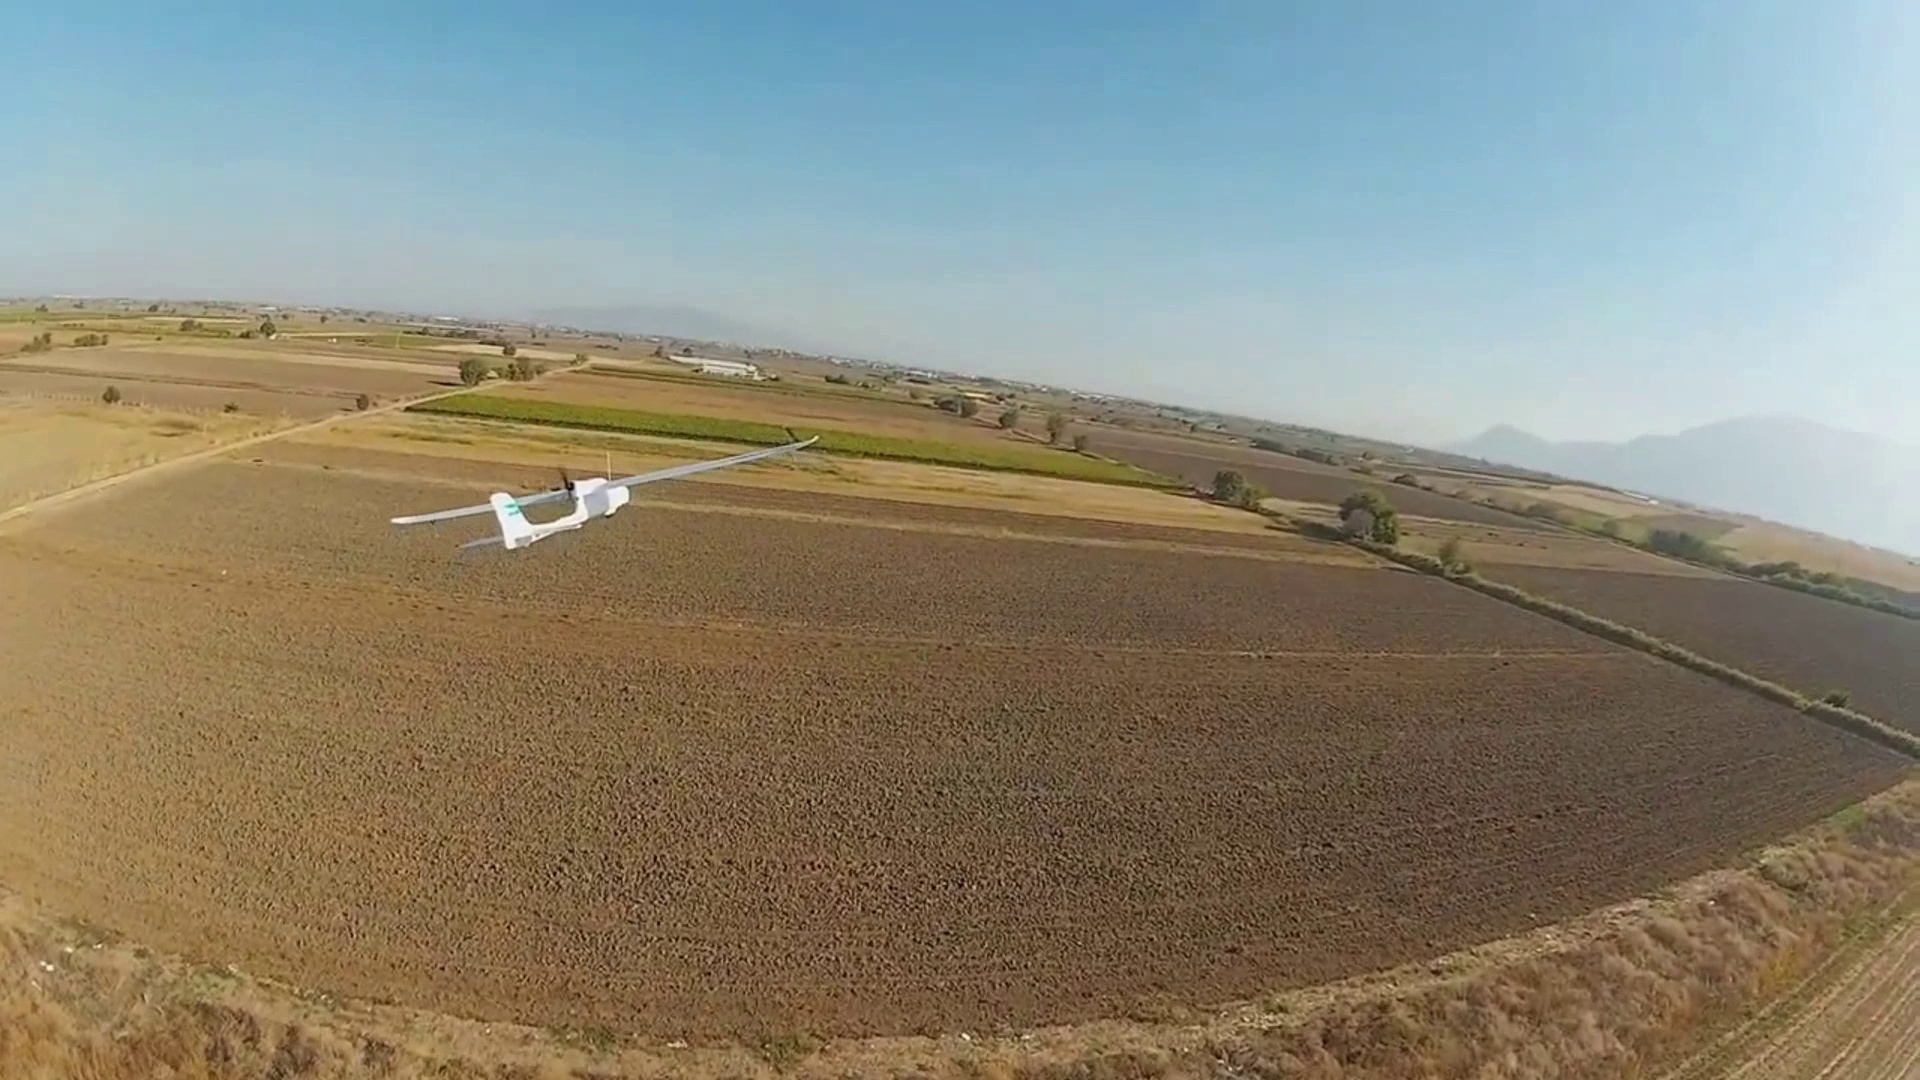airplane: (388, 439, 824, 558)
